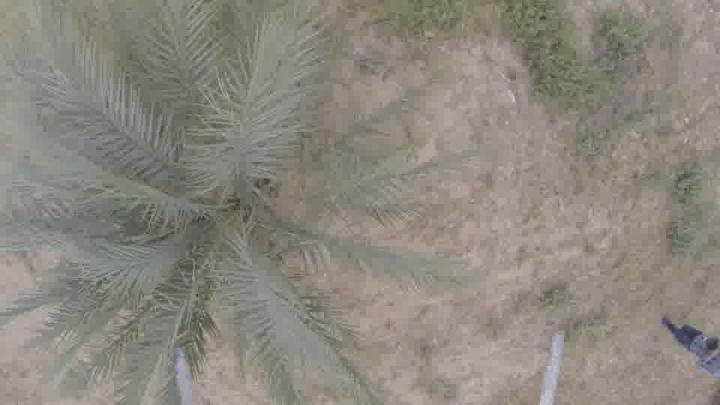Date-Palm-Crown: (68, 70, 362, 370)
